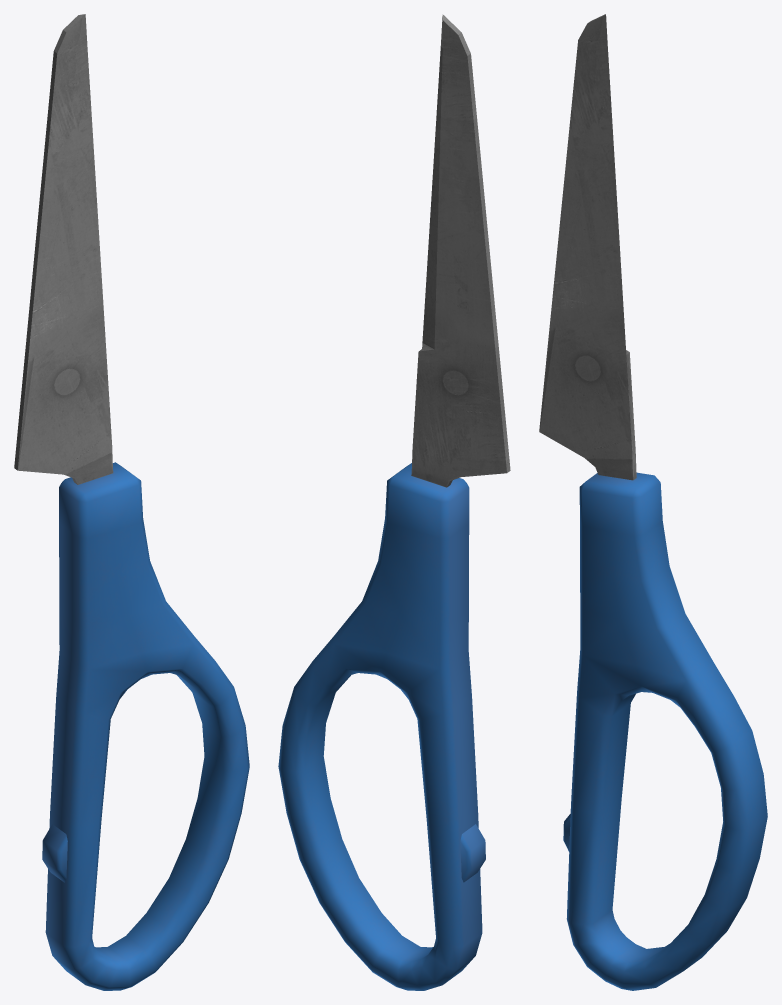
Rendered from scissors_visual_1.obj.
3 views of the same model, side by side, from view 1: azimuth 30°, elevation 25°; view 2: azimuth 150°, elevation 25°; view 3: azimuth 330°, elevation 25° (orthographic).
Bounding box in the file's own units: 0.0368 × 0.154 × 0.0075.
Materials: 1 (1 with a texture image).
